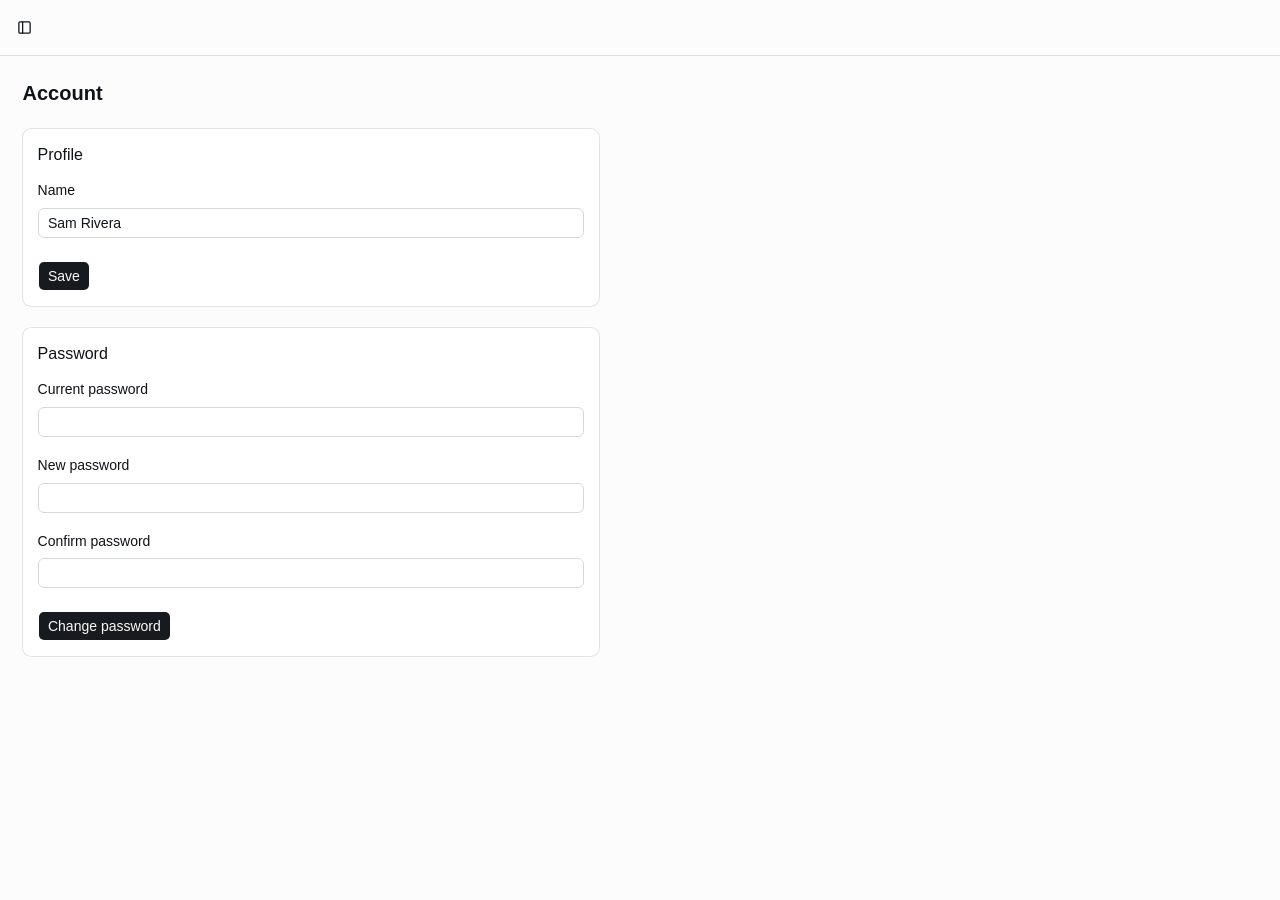
Test: a wrong current password shows under its field
In the password field labelled "Current password": (311, 422) x1=38 y1=407 x2=584 y2=437, type "correct horse battery"
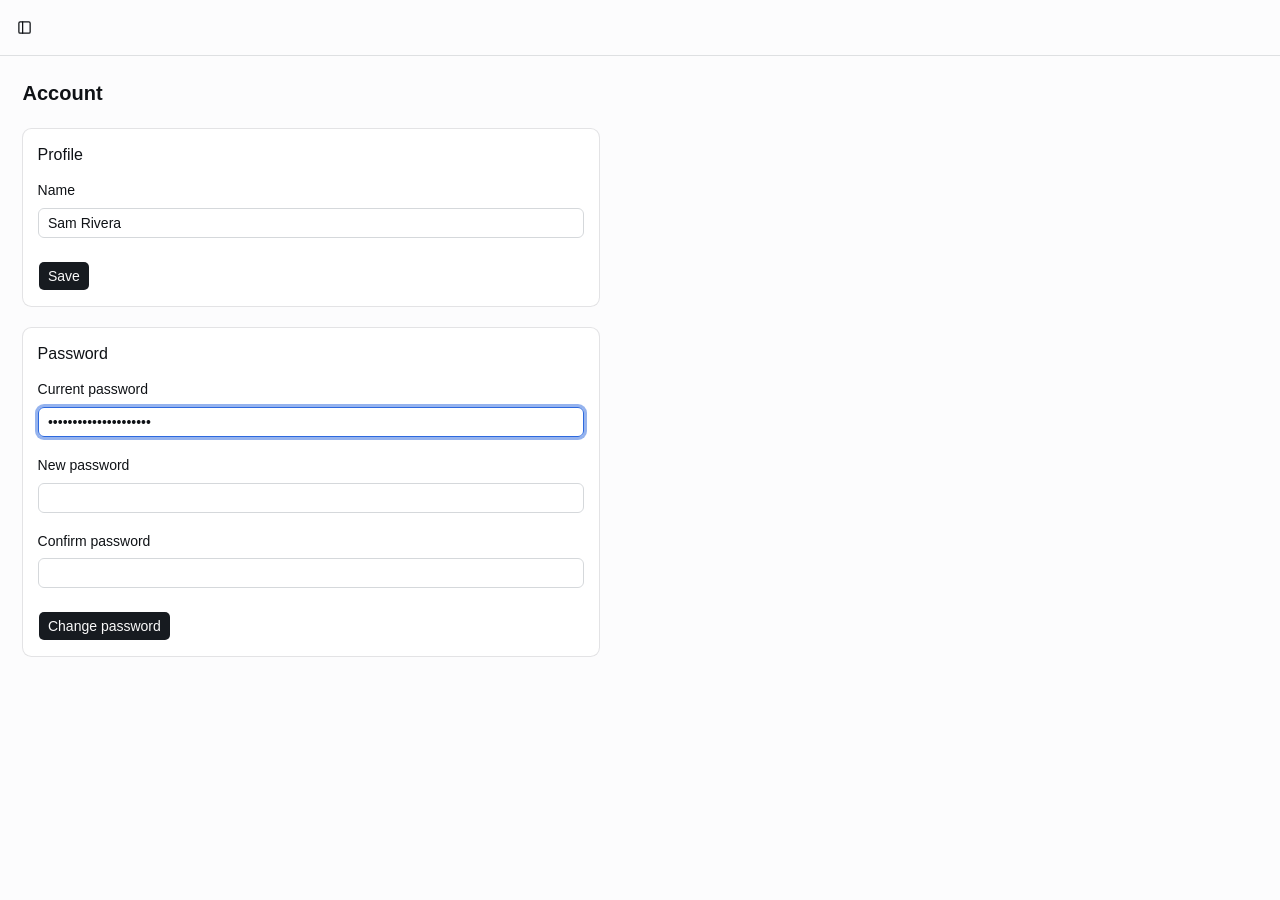
In the password field labelled "New password": (311, 498) x1=38 y1=483 x2=584 y2=513, type "tangerine submarine lighthouse"
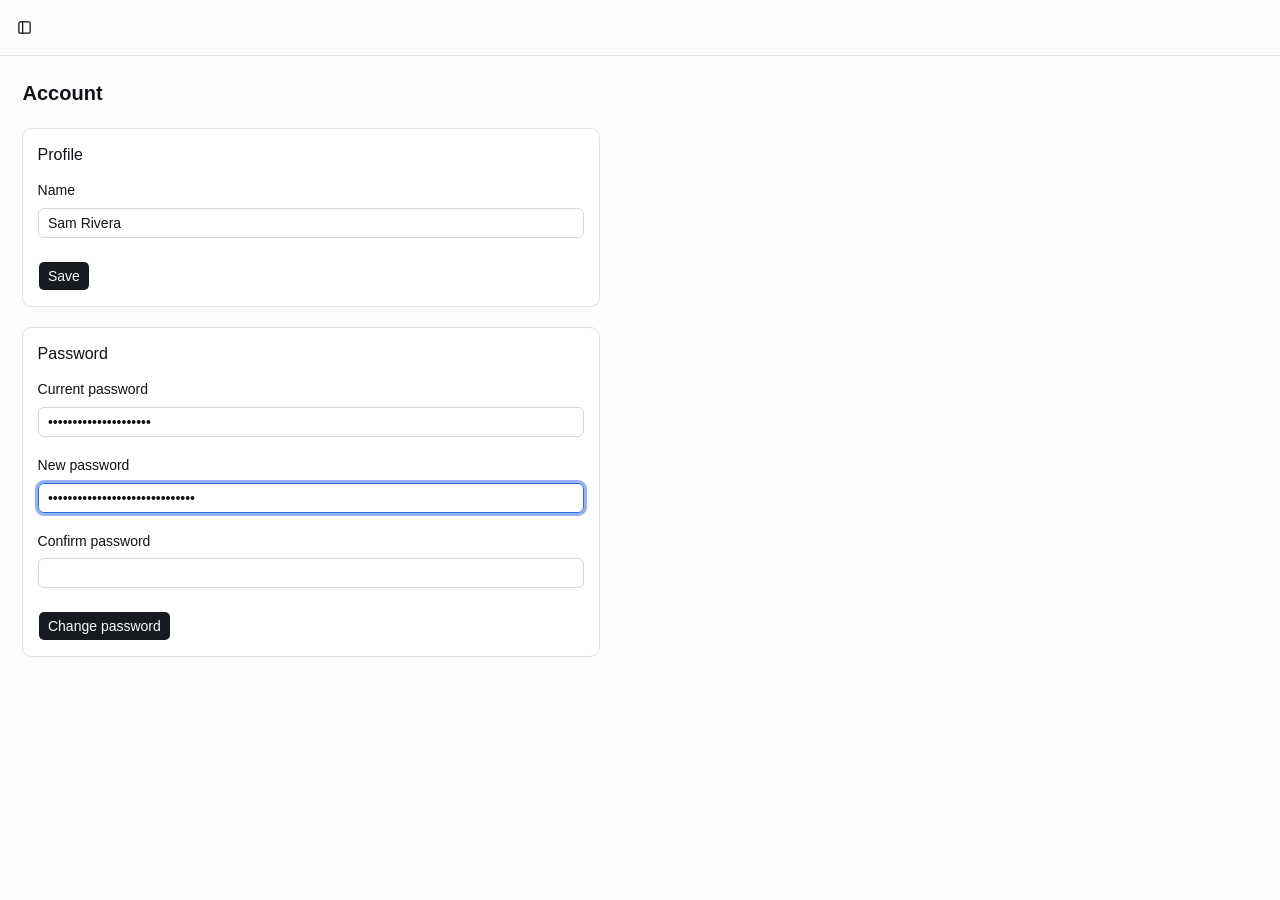
In the password field labelled "Confirm password": (311, 573) x1=38 y1=558 x2=584 y2=588, type "tangerine submarine lighthouse"
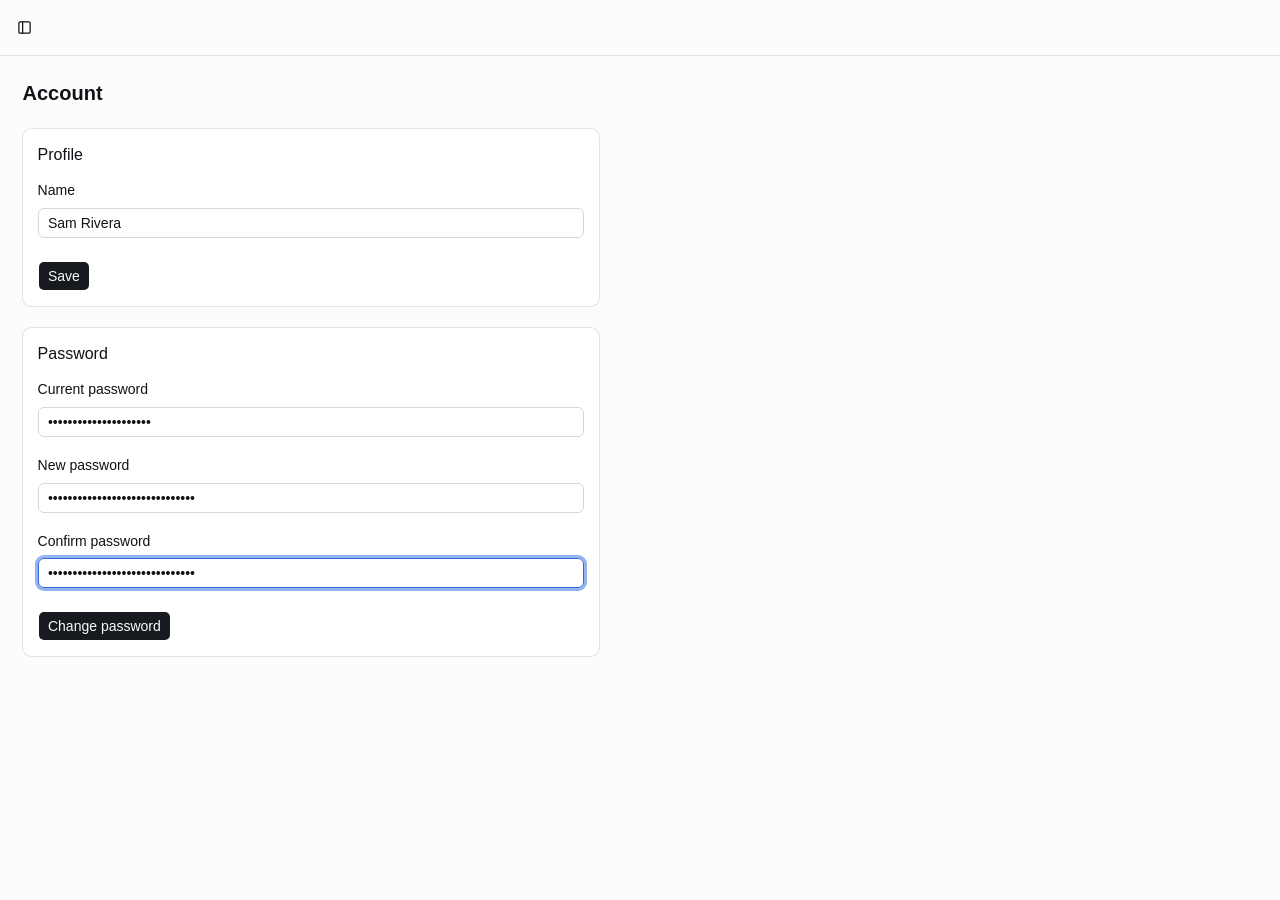
Click the button "Change password": (104, 626) x1=38 y1=611 x2=171 y2=641
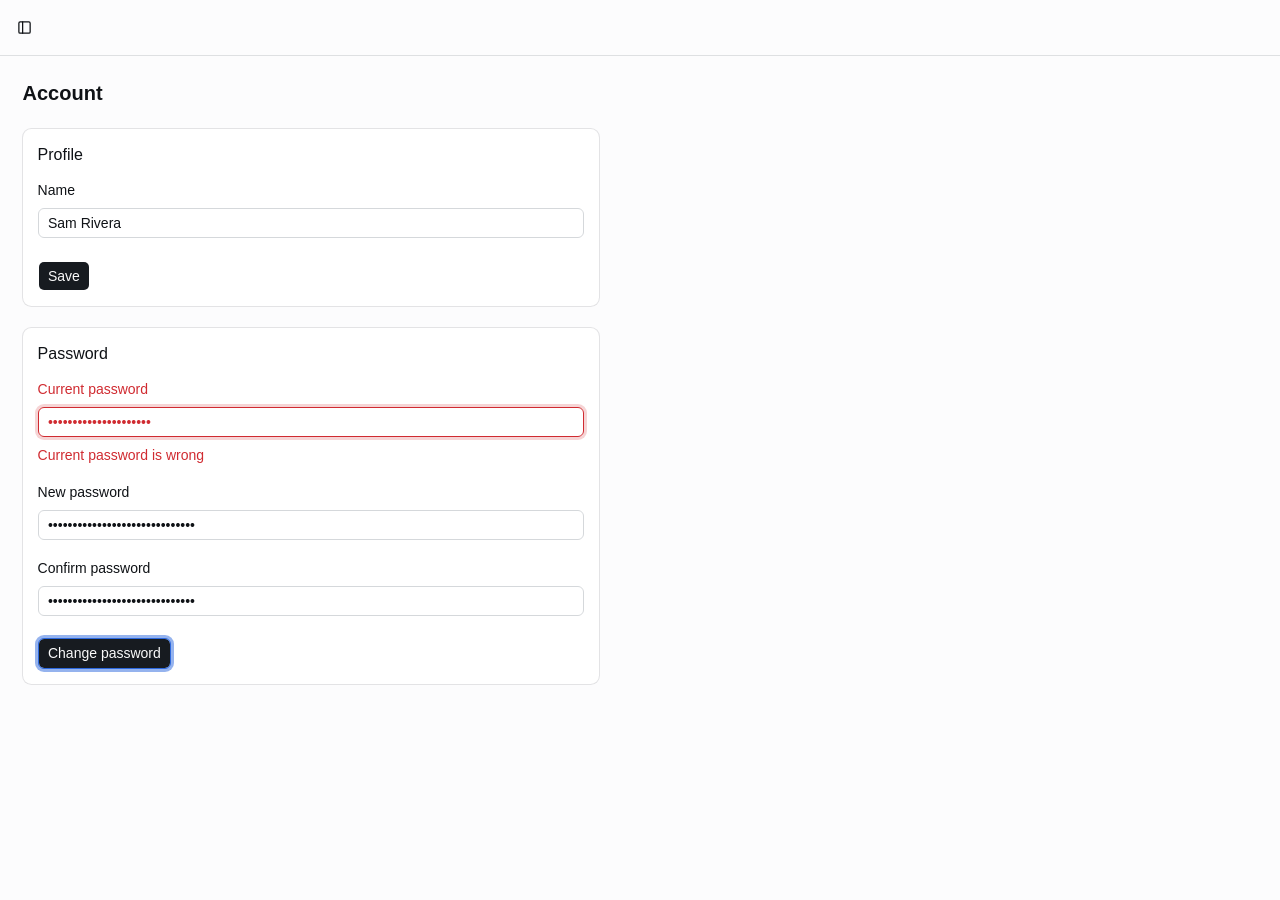
Expected: the text "Current password is wrong" is shown, x1=38 y1=447 x2=204 y2=463
